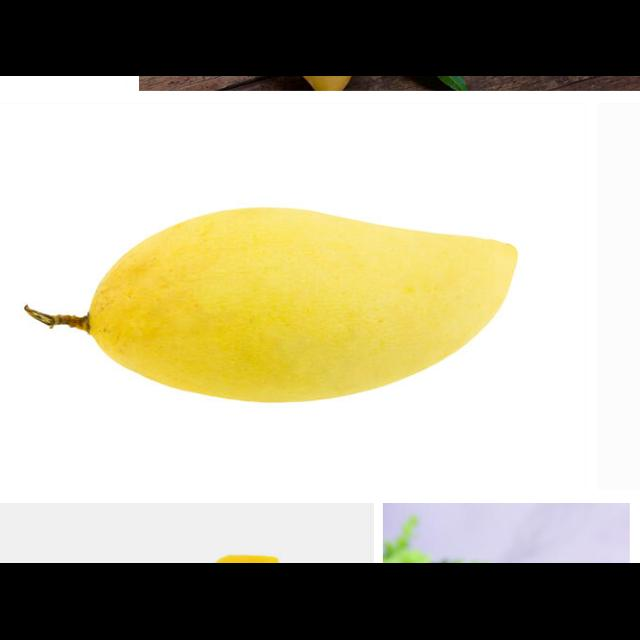mango: (91, 208, 514, 404)
